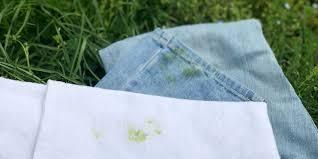earth: (128, 127, 160, 143), (163, 48, 184, 64), (184, 67, 202, 80)
